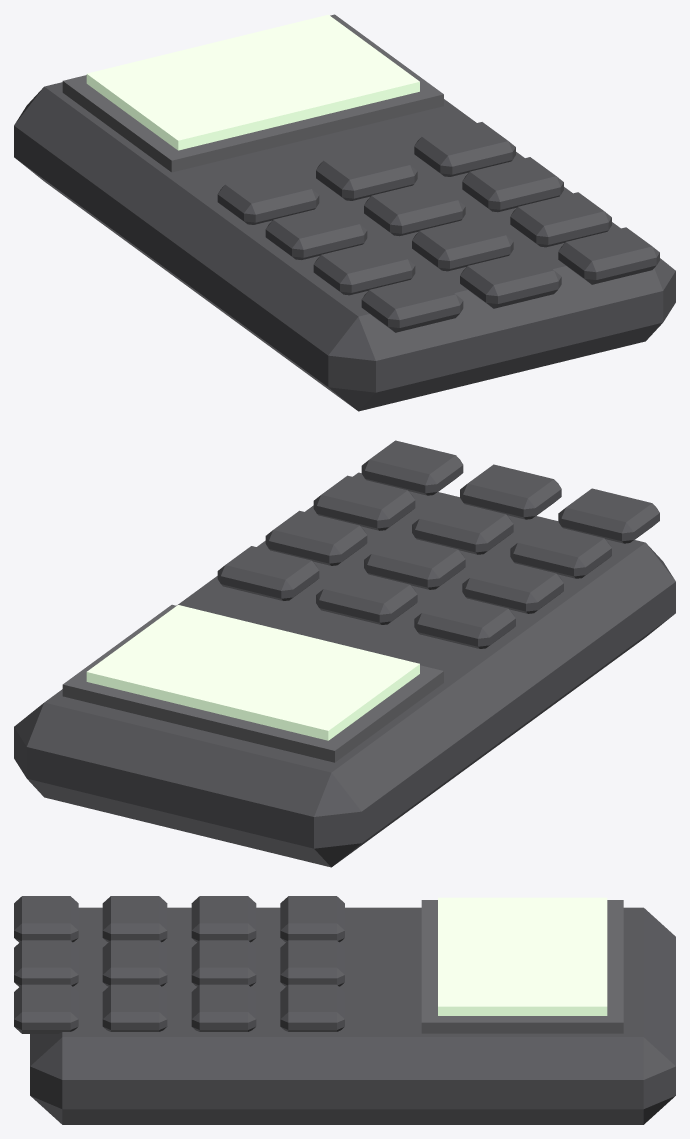
The model's file is burnerPhone.glb.
3 renders of one model, top to bottom at view 1: azimuth 30°, elevation 25°; view 2: azimuth 150°, elevation 25°; view 3: azimuth 270°, elevation 25°, orthographic. The views are drawn at different scales.
Parts seen in each view (by area): view 1: Body, Glass, Bezel, Key30, Key31, Key32, Key20, Key00, Key10, Key01, Key11, Key12 (+3 smaller); view 2: Body, Glass, Bezel, Key02, Key00, Key01, Key32, Key22, Key31, Key30, Key12, Key20 (+3 smaller); view 3: Body, Glass, Bezel, Key32, Key12, Key22, Key02, Key10, Key20, Key11, Key21, Key01 (+3 smaller).
Boxes of the visible parts, x1=… form: Body: x1=14, y1=82, x2=675, y2=411; Glass: x1=86, y1=14, x2=419, y2=150; Bezel: x1=62, y1=14, x2=443, y2=172; Key30: x1=361, y1=275, x2=463, y2=332; Key31: x1=460, y1=251, x2=561, y2=308; Key32: x1=558, y1=227, x2=659, y2=284; Key20: x1=313, y1=240, x2=415, y2=295; Key00: x1=217, y1=170, x2=319, y2=224; Key10: x1=265, y1=205, x2=367, y2=259; Key01: x1=316, y1=146, x2=417, y2=200; Key11: x1=364, y1=181, x2=465, y2=236; Key12: x1=462, y1=157, x2=563, y2=212; Body: x1=14, y1=472, x2=675, y2=867; Glass: x1=86, y1=605, x2=419, y2=740; Bezel: x1=62, y1=604, x2=443, y2=762; Key02: x1=217, y1=546, x2=319, y2=600; Key00: x1=414, y1=594, x2=515, y2=648; Key01: x1=316, y1=570, x2=417, y2=624; Key32: x1=361, y1=440, x2=463, y2=495; Key22: x1=313, y1=475, x2=415, y2=530; Key31: x1=460, y1=464, x2=561, y2=519; Key30: x1=558, y1=488, x2=659, y2=543; Key12: x1=265, y1=510, x2=367, y2=565; Key20: x1=510, y1=523, x2=611, y2=578; Body: x1=30, y1=907, x2=675, y2=1124; Glass: x1=438, y1=897, x2=607, y2=1015; Bezel: x1=421, y1=900, x2=623, y2=1033; Key32: x1=14, y1=984, x2=78, y2=1033; Key12: x1=191, y1=984, x2=256, y2=1031; Key22: x1=102, y1=984, x2=167, y2=1031; Key02: x1=280, y1=984, x2=344, y2=1031; Key10: x1=191, y1=896, x2=256, y2=942; Key20: x1=102, y1=896, x2=167, y2=942; Key11: x1=191, y1=940, x2=256, y2=986; Key21: x1=102, y1=940, x2=167, y2=986; Key01: x1=280, y1=940, x2=344, y2=986.
Size of the model in its own units: 0.092 by 0.0295 by 0.164.
